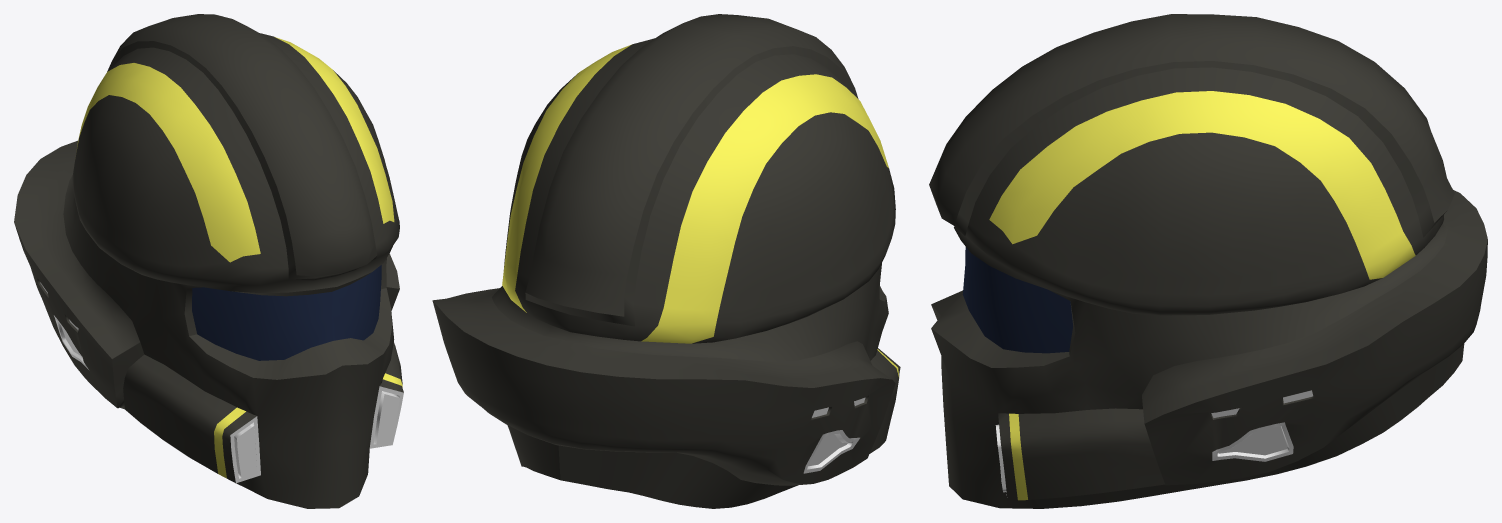
Rendered from HELLDIVER_HELMET.glb.
3 renders of one model, left to right at view 1: azimuth 30°, elevation 25°; view 2: azimuth 150°, elevation 25°; view 3: azimuth 270°, elevation 25°, orthographic. The views are drawn at different scales.
Parts seen in each view (by area): view 1: Retopo_HELMET; view 2: Retopo_HELMET; view 3: Retopo_HELMET.
Part boxes in pixels (bbox=[...]): Retopo_HELMET: bbox=[14, 14, 403, 508]; Retopo_HELMET: bbox=[432, 14, 900, 508]; Retopo_HELMET: bbox=[929, 14, 1487, 508].
Bounding box in the file's own units: 3.67 × 4.44 × 4.89.
